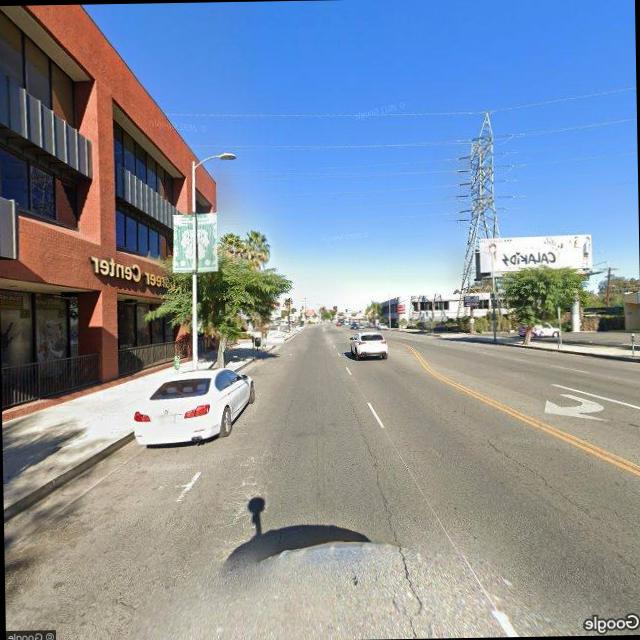pothole: (358, 422, 417, 608), (479, 432, 592, 516)
